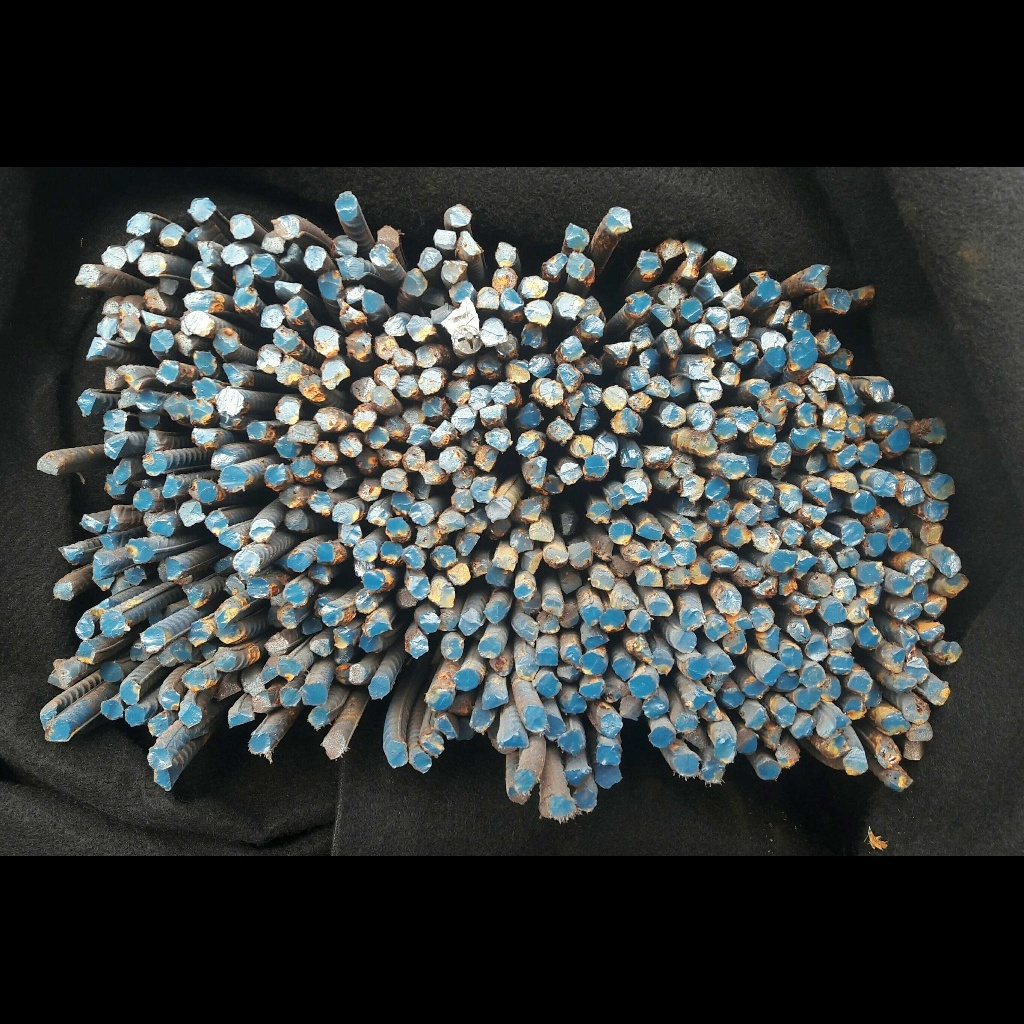dipstick: (541, 795, 577, 821), (181, 310, 214, 337), (345, 330, 372, 361), (567, 252, 595, 281), (803, 479, 832, 507), (792, 339, 819, 368), (313, 326, 338, 357), (879, 711, 912, 734), (212, 327, 240, 354), (322, 362, 350, 389), (318, 270, 344, 299), (275, 395, 301, 424), (870, 415, 900, 440), (809, 363, 836, 390), (857, 622, 884, 649), (219, 466, 247, 492), (723, 520, 751, 546), (934, 549, 960, 577), (568, 541, 593, 570), (611, 409, 640, 434), (257, 344, 281, 374), (407, 315, 434, 341), (872, 470, 898, 497), (188, 197, 216, 222), (403, 268, 428, 296), (272, 328, 300, 353), (275, 356, 300, 384), (822, 402, 847, 430), (791, 428, 820, 452), (557, 365, 583, 391), (921, 418, 947, 444), (284, 296, 309, 323), (188, 398, 213, 425), (218, 388, 243, 415), (482, 318, 507, 345), (670, 629, 697, 654), (747, 478, 774, 503), (760, 399, 787, 424), (928, 474, 955, 499), (138, 252, 166, 276), (164, 393, 188, 421), (516, 432, 544, 456), (672, 752, 700, 776), (644, 593, 672, 617), (690, 402, 714, 430), (660, 283, 688, 307), (104, 431, 127, 460), (751, 527, 780, 550), (523, 457, 544, 488), (251, 253, 277, 278), (312, 440, 338, 465), (439, 447, 465, 472), (536, 672, 562, 697), (470, 477, 495, 503), (557, 293, 583, 318), (372, 334, 398, 359), (665, 566, 691, 591), (626, 292, 652, 317), (605, 207, 631, 232), (686, 355, 712, 380), (826, 288, 851, 314), (887, 527, 912, 553), (876, 742, 901, 768), (525, 300, 552, 324), (697, 275, 721, 302), (722, 454, 749, 478), (857, 562, 884, 586), (557, 730, 585, 753), (594, 765, 622, 788), (660, 329, 683, 357), (822, 734, 850, 757), (336, 191, 358, 220), (76, 389, 98, 418), (478, 405, 507, 427), (229, 214, 254, 239), (142, 451, 167, 476), (352, 407, 377, 432), (417, 369, 442, 394), (489, 651, 514, 676), (430, 582, 455, 607), (602, 386, 627, 411), (696, 377, 721, 402), (780, 521, 805, 546), (900, 481, 925, 506), (75, 264, 101, 288), (197, 241, 221, 267), (273, 215, 299, 239), (337, 255, 363, 279), (191, 478, 217, 502), (315, 408, 341, 432), (265, 464, 289, 490), (539, 380, 563, 406), (705, 476, 731, 500), (650, 303, 676, 327), (806, 264, 830, 290), (101, 246, 128, 269), (431, 420, 454, 447), (526, 705, 549, 732), (453, 407, 476, 434), (653, 543, 676, 570), (670, 541, 697, 564), (659, 240, 686, 263), (37, 453, 65, 475), (777, 382, 805, 404), (127, 212, 152, 236), (353, 377, 377, 402), (188, 622, 213, 646), (483, 599, 508, 623), (486, 427, 511, 451), (521, 323, 546, 347), (384, 312, 408, 337), (787, 618, 811, 643), (779, 487, 803, 512), (869, 377, 893, 402), (905, 699, 930, 723), (158, 223, 184, 246), (377, 225, 400, 251), (301, 683, 327, 706), (440, 634, 463, 660), (521, 276, 547, 299), (566, 223, 589, 249), (619, 695, 642, 721), (681, 475, 707, 498), (621, 480, 647, 503), (660, 403, 686, 426), (732, 342, 758, 365), (844, 750, 867, 776), (441, 261, 468, 283), (331, 502, 358, 524), (426, 689, 453, 711), (438, 511, 465, 533), (529, 355, 556, 377), (636, 565, 663, 587), (644, 447, 671, 469), (639, 251, 661, 278), (579, 653, 607, 674), (193, 351, 217, 375), (141, 627, 165, 651), (323, 734, 347, 758), (446, 380, 470, 404), (493, 267, 517, 291), (598, 713, 622, 737), (700, 759, 724, 783), (716, 590, 740, 614), (734, 409, 758, 433), (841, 521, 865, 545), (926, 681, 950, 705), (937, 641, 961, 665), (303, 245, 326, 270), (449, 280, 474, 303), (129, 540, 154, 563), (159, 559, 184, 582), (374, 365, 399, 388), (416, 524, 441, 547), (423, 461, 448, 484), (433, 716, 458, 739), (459, 612, 484, 635), (543, 544, 568, 567), (475, 446, 498, 471), (505, 360, 530, 383), (551, 417, 574, 442), (723, 632, 748, 655), (607, 340, 632, 363), (792, 713, 815, 738), (833, 577, 856, 602), (847, 598, 870, 623), (232, 286, 258, 308), (233, 551, 259, 573), (364, 427, 390, 449), (381, 469, 407, 491), (644, 697, 670, 719), (837, 443, 859, 469), (862, 534, 888, 556), (918, 622, 944, 644), (444, 205, 471, 226), (275, 436, 302, 457), (146, 748, 173, 769), (770, 550, 797, 571), (895, 601, 922, 622), (364, 615, 392, 635), (737, 565, 765, 585), (458, 232, 482, 255), (418, 247, 442, 270), (205, 510, 228, 534), (183, 584, 207, 607), (277, 655, 300, 679), (405, 634, 428, 658), (386, 518, 410, 541), (402, 446, 425, 470), (573, 788, 597, 811), (509, 528, 532, 552), (530, 519, 554, 542), (612, 658, 635, 682), (687, 656, 711, 679), (721, 684, 745, 707), (704, 617, 728, 640), (591, 567, 615, 590), (750, 607, 774, 630), (706, 501, 730, 524), (584, 455, 608, 478), (780, 647, 803, 671), (829, 628, 853, 651), (796, 402, 820, 425), (858, 442, 881, 466), (810, 573, 833, 597), (221, 244, 246, 266), (184, 292, 209, 314), (369, 244, 394, 266), (180, 501, 202, 526), (284, 509, 309, 531), (45, 719, 70, 741), (170, 637, 192, 662), (181, 669, 206, 691), (491, 383, 516, 405), (630, 675, 655, 697), (679, 608, 704, 630), (626, 367, 651, 389), (619, 446, 644, 468), (735, 503, 760, 525), (820, 675, 842, 700), (801, 504, 826, 526), (101, 611, 122, 637), (561, 336, 582, 362), (596, 744, 622, 765), (714, 736, 735, 762), (599, 609, 625, 630), (649, 727, 676, 747), (760, 332, 787, 352), (884, 772, 912, 791), (190, 265, 213, 288), (261, 304, 284, 327), (156, 360, 179, 383), (103, 409, 126, 432), (309, 490, 332, 513), (373, 386, 396, 409), (214, 649, 237, 672), (410, 502, 433, 525), (581, 315, 604, 338), (571, 435, 594, 458), (744, 706, 767, 729), (609, 521, 632, 544), (673, 453, 696, 476), (714, 418, 737, 441), (649, 375, 672, 398), (118, 316, 140, 340), (136, 389, 158, 413), (393, 349, 415, 373), (470, 709, 494, 731), (536, 611, 560, 633), (493, 548, 517, 570), (559, 462, 583, 484), (588, 502, 612, 524), (681, 298, 703, 322), (788, 309, 812, 331), (925, 499, 949, 521), (832, 348, 854, 372), (149, 330, 174, 351), (192, 378, 217, 399), (386, 742, 407, 767), (455, 669, 480, 690), (712, 551, 737, 572), (795, 688, 820, 709), (846, 415, 867, 440), (889, 574, 914, 595), (908, 561, 933, 582), (849, 284, 874, 305), (482, 689, 508, 709), (416, 347, 443, 366), (227, 707, 254, 726), (262, 231, 285, 253), (85, 338, 108, 360), (339, 435, 362, 457), (250, 520, 272, 543), (339, 524, 362, 546), (179, 704, 201, 727), (368, 676, 391, 698), (355, 590, 378, 612), (407, 424, 430, 446), (434, 545, 456, 568), (469, 386, 492, 408), (628, 610, 651, 632), (689, 561, 711, 584), (631, 325, 653, 348), (693, 325, 715, 348), (754, 423, 776, 446), (844, 697, 866, 720), (322, 467, 346, 488), (353, 541, 377, 562), (502, 288, 523, 312), (495, 243, 516, 267), (805, 639, 829, 660), (770, 442, 791, 466), (889, 429, 910, 453), (853, 492, 877, 513), (836, 548, 860, 569), (682, 250, 700, 278), (120, 680, 140, 705), (478, 637, 503, 657), (486, 498, 511, 518), (628, 391, 653, 411), (908, 721, 933, 741), (810, 529, 835, 549), (193, 429, 219, 448), (578, 681, 604, 700), (232, 265, 254, 287), (215, 605, 237, 627), (147, 714, 169, 736), (406, 576, 428, 598), (403, 546, 425, 568), (381, 541, 403, 563), (448, 564, 470, 586), (451, 490, 473, 512), (478, 287, 500, 309), (823, 429, 845, 451), (921, 522, 943, 544), (514, 769, 537, 790), (651, 651, 674, 672), (744, 676, 767, 697), (593, 437, 616, 458), (292, 458, 316, 478), (211, 450, 235, 470), (536, 645, 560, 665), (562, 693, 586, 713), (765, 662, 785, 686), (748, 380, 772, 400), (674, 714, 699, 733), (114, 458, 132, 484), (547, 714, 565, 740), (105, 474, 127, 495), (358, 479, 380, 500), (397, 375, 418, 397), (309, 564, 331, 585), (545, 252, 566, 274), (581, 382, 602, 404), (707, 308, 728, 330), (819, 331, 840, 353), (849, 672, 871, 693), (433, 229, 456, 249), (284, 584, 307, 604), (737, 732, 757, 755), (711, 654, 734, 674), (758, 280, 781, 300), (824, 603, 847, 623), (945, 575, 968, 595), (902, 740, 925, 760), (286, 553, 310, 572), (367, 507, 391, 526), (671, 521, 695, 540), (149, 520, 174, 538), (920, 450, 937, 476), (101, 662, 122, 683), (460, 534, 481, 555), (249, 735, 271, 755), (419, 612, 439, 634), (581, 605, 603, 625), (693, 521, 713, 543), (777, 747, 799, 767), (802, 666, 824, 686), (767, 348, 787, 370), (730, 317, 750, 339), (924, 595, 946, 615), (77, 641, 96, 664), (157, 692, 180, 711), (721, 362, 740, 385), (714, 251, 737, 270), (757, 761, 781, 779), (580, 407, 598, 431), (498, 735, 531, 748), (247, 578, 267, 599), (74, 619, 94, 640), (125, 705, 145, 726), (309, 707, 329, 728), (423, 735, 443, 756), (333, 627, 353, 648), (125, 240, 144, 262), (364, 290, 383, 312), (220, 530, 242, 549), (279, 606, 298, 628), (806, 454, 828, 473), (81, 514, 104, 532), (691, 693, 714, 711), (776, 673, 799, 691), (830, 655, 853, 673), (639, 522, 663, 539), (133, 491, 153, 511), (102, 700, 122, 720), (422, 397, 442, 417), (561, 573, 581, 593), (640, 349, 660, 369), (279, 688, 300, 707), (363, 571, 384, 590), (514, 582, 535, 601), (563, 644, 582, 665), (63, 547, 85, 565), (541, 597, 563, 615), (316, 543, 336, 562), (54, 582, 74, 601), (153, 770, 172, 790), (565, 769, 592, 783), (777, 705, 795, 726), (308, 639, 330, 656), (40, 709, 56, 732), (545, 474, 564, 493), (582, 298, 601, 317), (158, 277, 178, 295), (247, 421, 267, 439), (322, 608, 342, 626), (509, 787, 530, 804), (888, 650, 903, 673), (130, 643, 149, 661), (414, 753, 431, 773), (163, 477, 179, 498), (585, 637, 609, 650), (349, 665, 365, 684)
